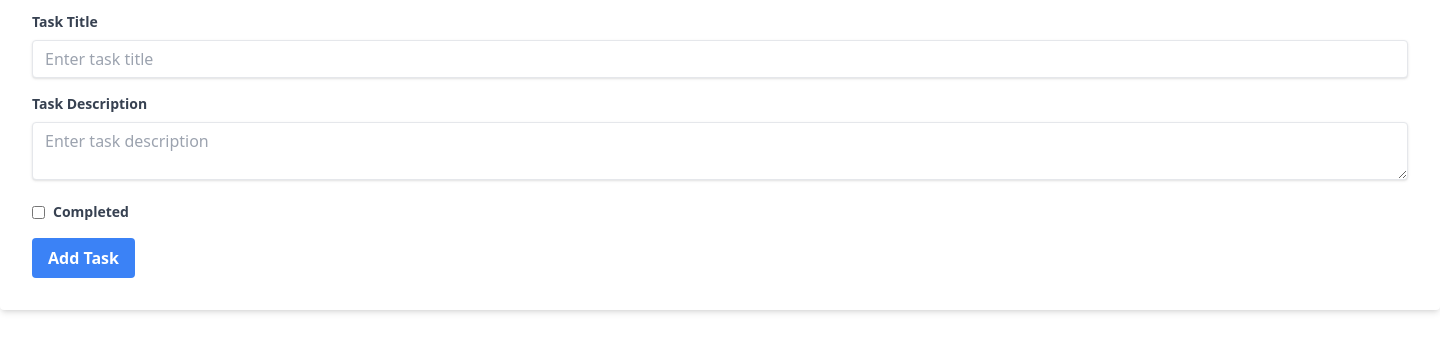
Test: TaskForm › validates form inputs
The width and height of the screenshot is (1440, 363).
Click the button "Add Task": point(84, 258) [32, 238, 135, 278]
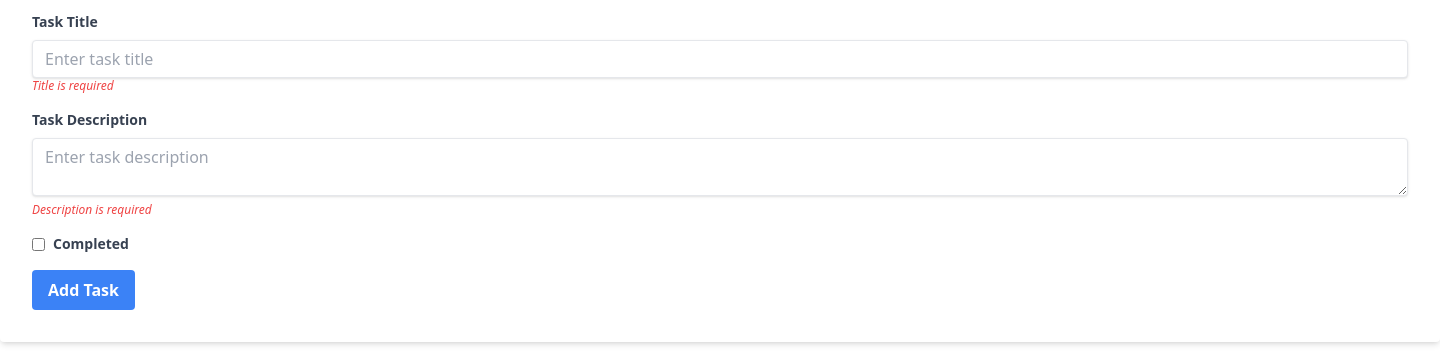
Now the text "Title is required" is shown, box [32, 77, 114, 94]
Now the text "Description is required" is shown, box [32, 201, 152, 218]
